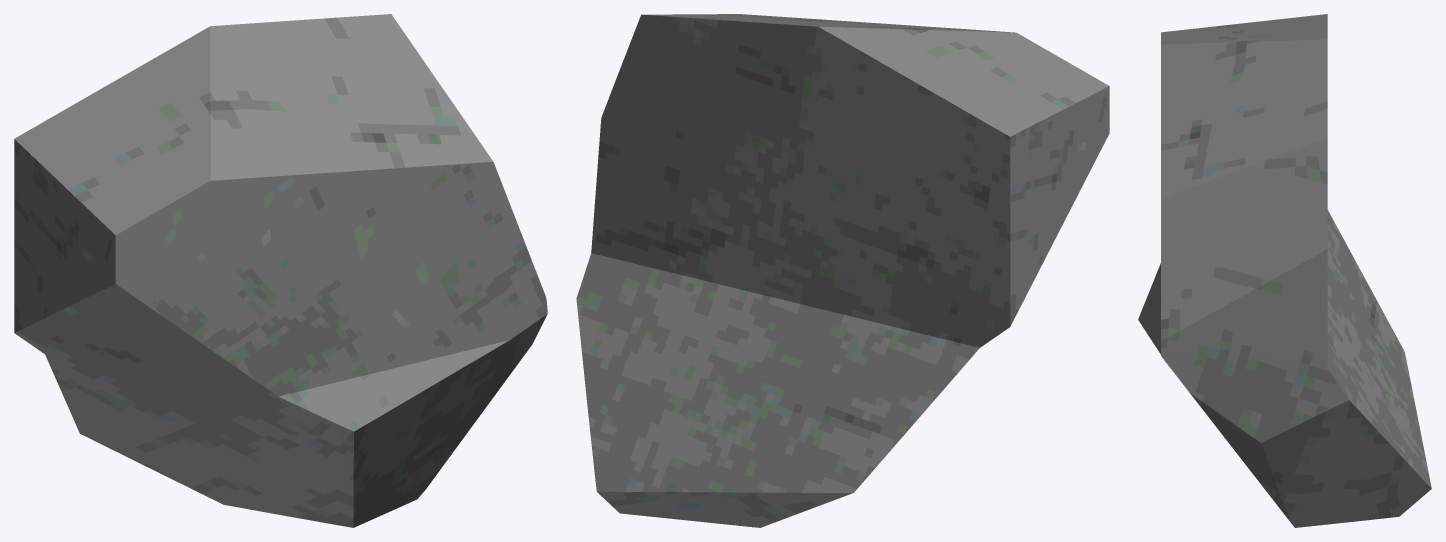
Rendered from barriar_cell_008.glb.
The picture shows the model from 3 angles, left to right: view 1: azimuth 30°, elevation 25°; view 2: azimuth 150°, elevation 25°; view 3: azimuth 270°, elevation 25°; orthographic projection. The views are drawn at different scales.
Parts seen in each view (by area): view 1: Barriar_cell.008; view 2: Barriar_cell.008; view 3: Barriar_cell.008.
Boxes of the visible parts, x1,y1,x2,y2 form: Barriar_cell.008: (14,14,547,527); Barriar_cell.008: (576,14,1109,527); Barriar_cell.008: (1138,14,1431,527).
Size of the model in its own units: 1.03 by 1.14 by 0.7305.
1 material, 1 textured.
